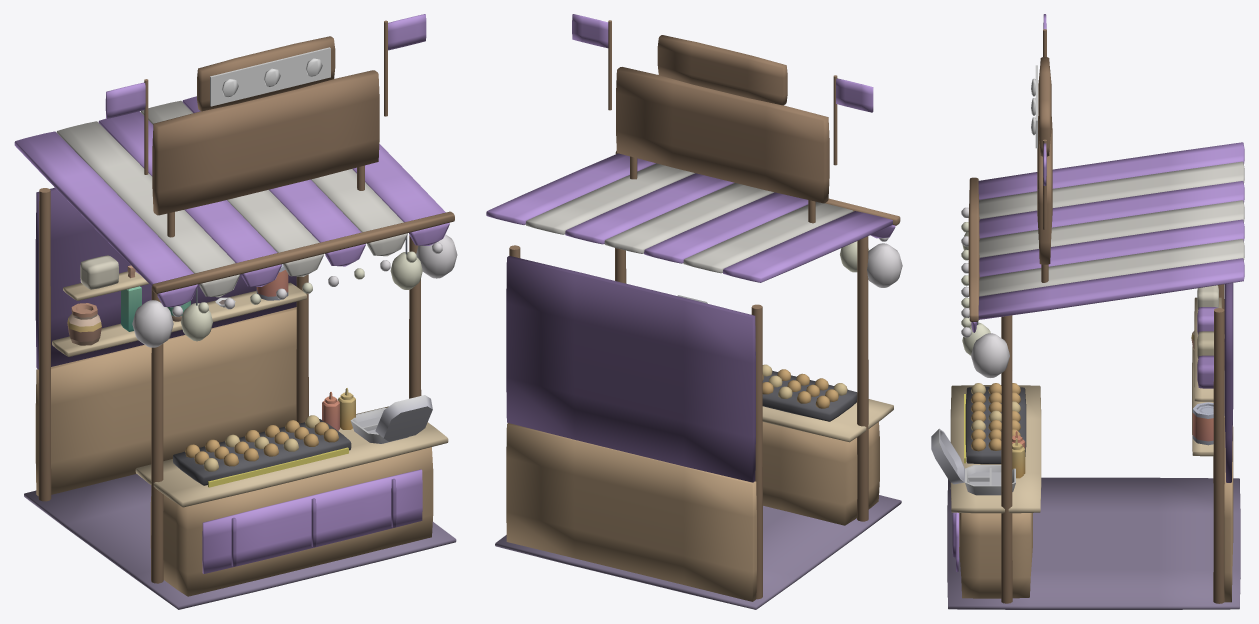
The model's file is stall_takoyaki.glb.
3 renders of one model, left to right at view 1: azimuth 30°, elevation 25°; view 2: azimuth 150°, elevation 25°; view 3: azimuth 270°, elevation 25°, orthographic. The views are drawn at different scales.
Parts seen in each view (by area): view 1: body, level3, level2; view 2: body, level3, level2; view 3: body, level2, level3.
Part boxes in pixels (x1,y1,x2,y2): body: (14, 70, 456, 609); level3: (105, 14, 426, 174); level2: (63, 234, 457, 347); body: (486, 67, 901, 609); level3: (572, 14, 873, 165); level2: (867, 237, 902, 287); body: (931, 116, 1244, 609); level2: (961, 207, 1221, 401); level3: (1031, 14, 1051, 229).
Size of the model in its own units: 3.2 by 4.68 by 2.88.
